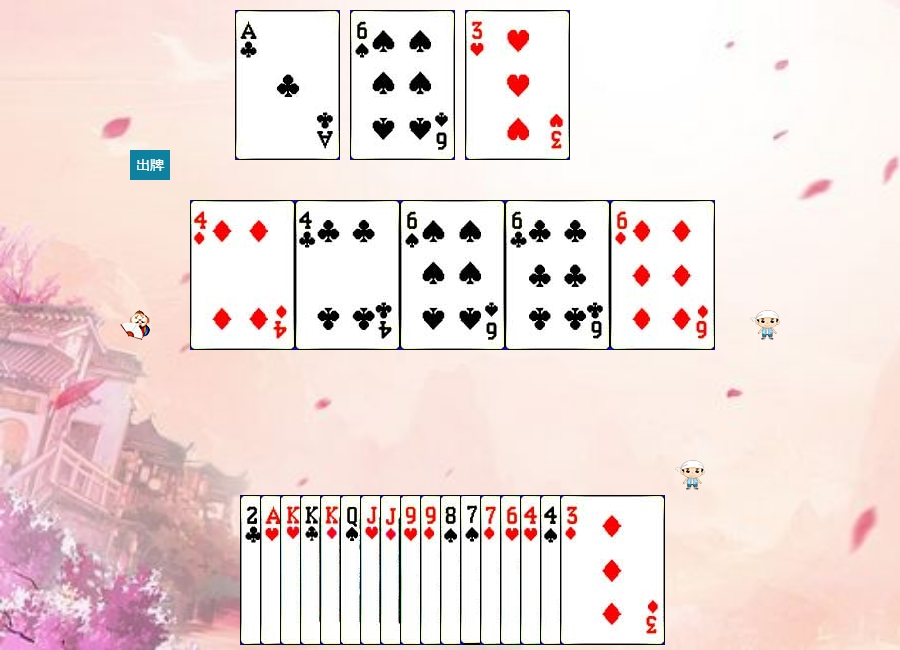11~1: (380, 495, 485, 645)
11~3: (360, 495, 465, 645)
12~4: (340, 495, 445, 645)
13~1: (320, 495, 425, 645)
13~2: (300, 495, 405, 645)
13~3: (280, 495, 385, 645)
14~2: (235, 10, 340, 160)
14~3: (260, 495, 365, 645)
15~2: (240, 495, 345, 645)
3~1: (560, 495, 665, 645)
3~3: (465, 10, 570, 160)
4~1: (190, 200, 295, 350)
4~2: (295, 200, 400, 350)
4~3: (520, 495, 625, 645)
4~4: (540, 495, 645, 645)
6~1: (610, 200, 715, 350)
6~2: (505, 200, 610, 350)
6~3: (500, 495, 605, 645)
6~4: (350, 10, 455, 160), (400, 200, 505, 350)
7~1: (480, 495, 585, 645)
7~4: (460, 495, 565, 645)
8~4: (440, 495, 545, 645)
9~1: (420, 495, 525, 645)
9~3: (400, 495, 505, 645)
